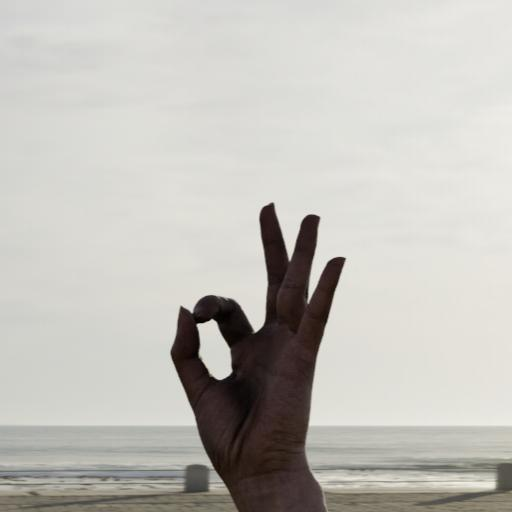F: (166, 194, 348, 512)
